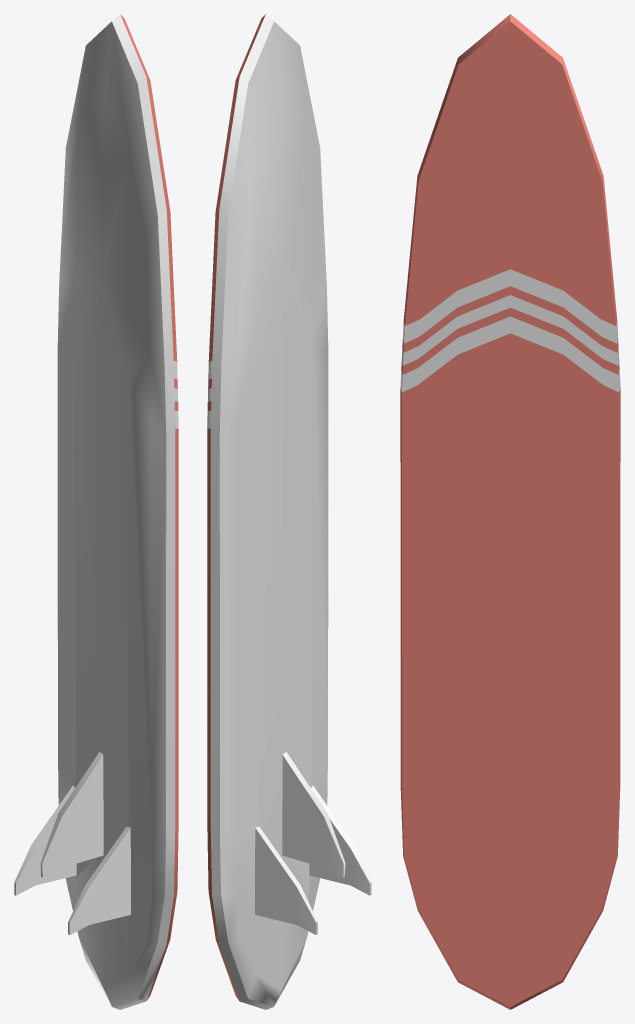
Rendered from Surfboard_1.glb.
3 views of the same model, side by side, from view 1: azimuth 30°, elevation 25°; view 2: azimuth 150°, elevation 25°; view 3: azimuth 270°, elevation 25° (orthographic).
Visible parts, largest first — view 1: Surfboard_Cube.027; view 2: Surfboard_Cube.027; view 3: Surfboard_Cube.027.
Part boxes in pixels (x1,y1,x2,y2): Surfboard_Cube.027: (14,14,178,1009); Surfboard_Cube.027: (207,14,371,1009); Surfboard_Cube.027: (400,14,620,1009).
Size of the model in its own units: 3.75 by 43.04 by 8.62.
